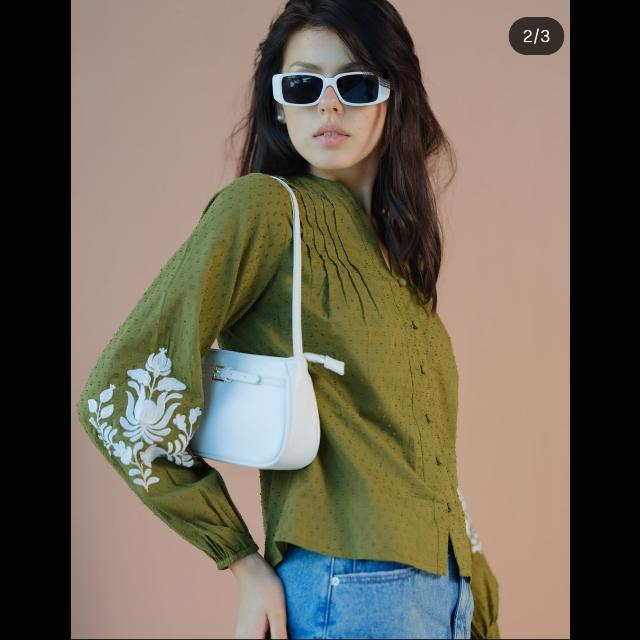bottom: (276, 554, 474, 638)
ear ring: (276, 110, 286, 124)
glasses: (274, 67, 386, 105)
handbag: (202, 171, 322, 465)
top: (228, 172, 472, 580)
